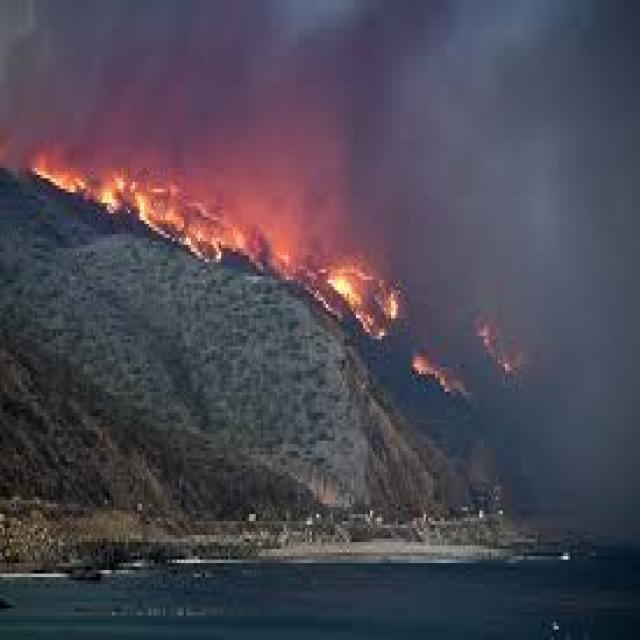Fire: (22, 123, 223, 289), (226, 176, 407, 348)
Smoke: (407, 268, 636, 548), (407, 0, 640, 265), (222, 1, 406, 177), (0, 2, 220, 118)
